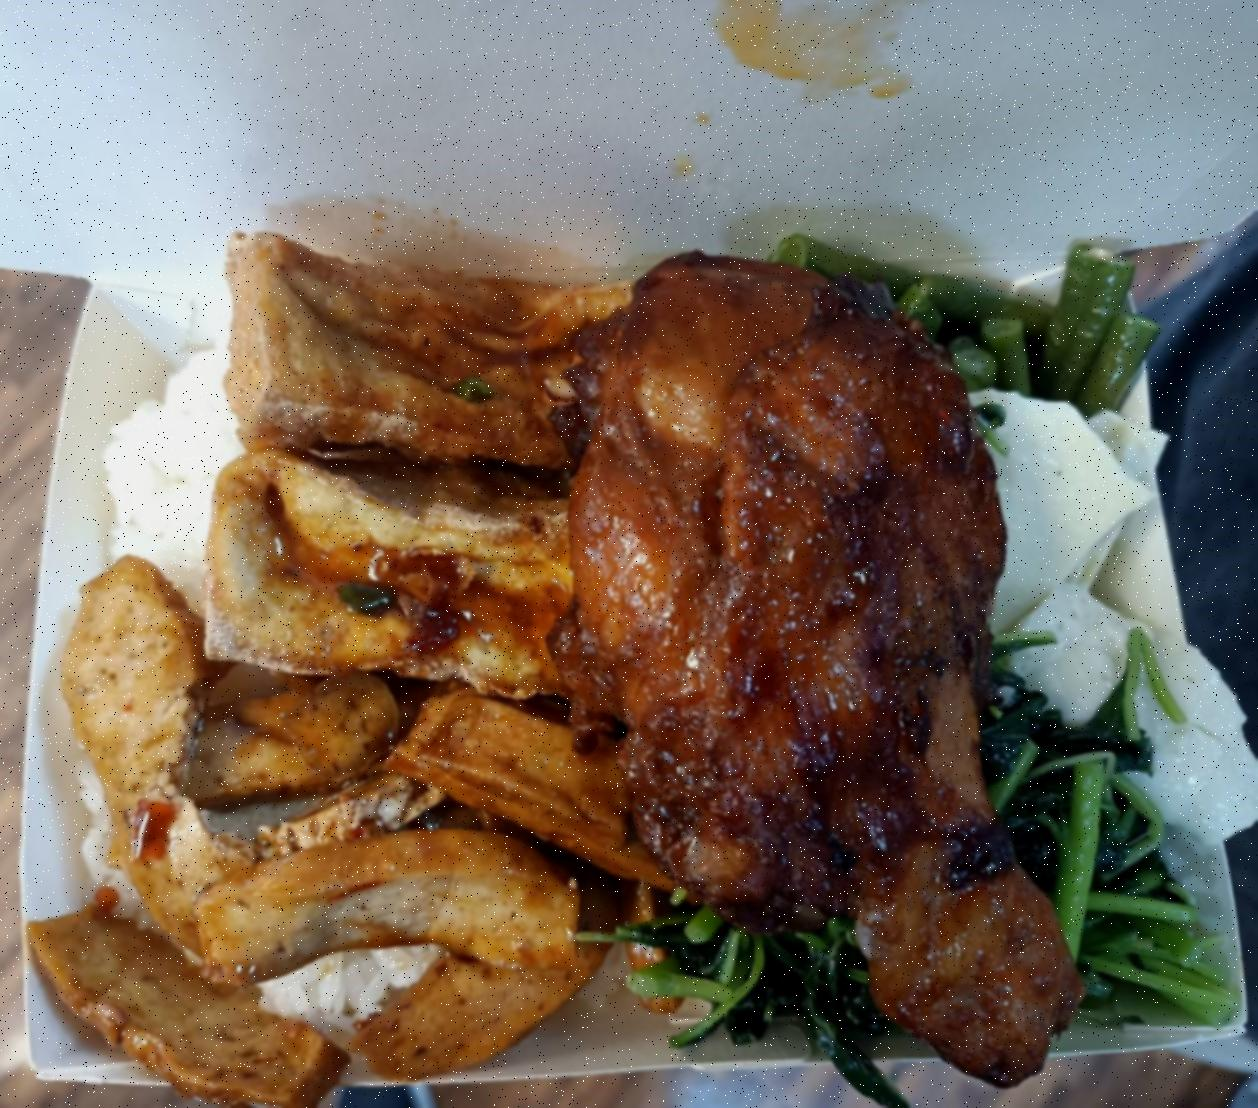box: (26, 241, 1249, 1094)
honey grilled chicken leg: (605, 278, 1052, 1080)
side dish: (86, 626, 578, 1057), (973, 298, 1221, 1028), (243, 253, 573, 678)
white rice: (102, 321, 583, 1032)
